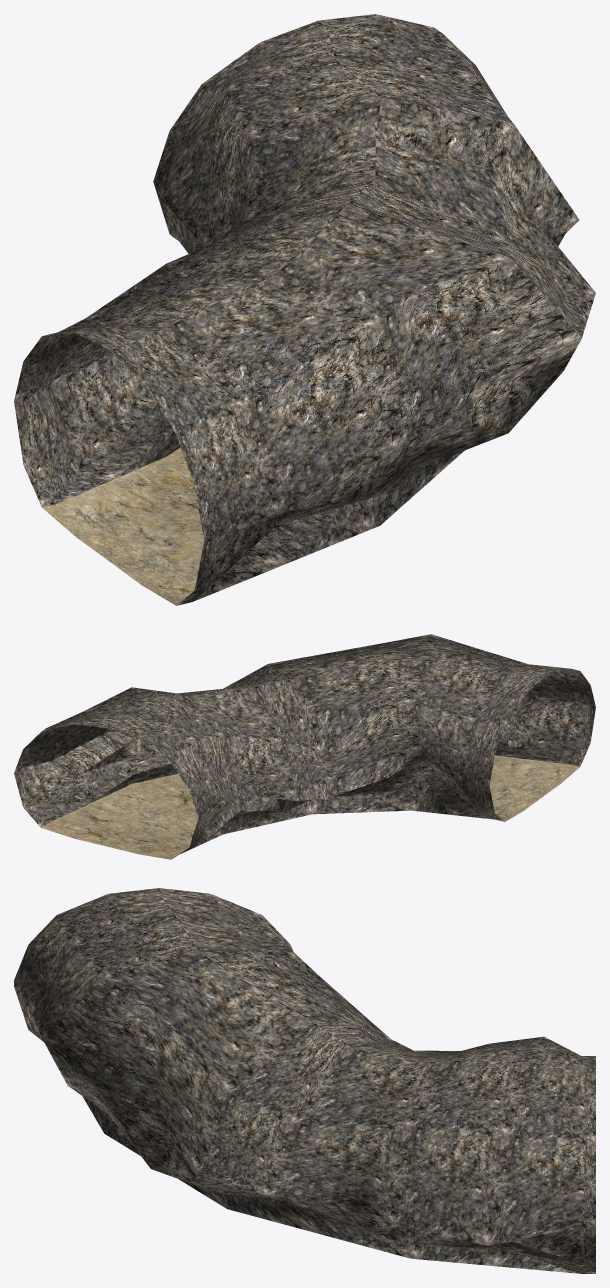
Rendered from pir_m_are_cav_curveWide.fbx.
3 renders of one model, top to bottom at view 1: azimuth 30°, elevation 25°; view 2: azimuth 150°, elevation 25°; view 3: azimuth 270°, elevation 25°, orthographic. The views are drawn at different scales.
Visible parts, largest first — view 1: curveWide_wall, curveWide_floor; view 2: curveWide_wall, curveWide_floor; view 3: curveWide_wall.
Part boxes in pixels (box(x1,y1,x2,y2)): curveWide_wall: box(14, 14, 595, 605); curveWide_floor: box(42, 447, 204, 605); curveWide_wall: box(14, 634, 595, 857); curveWide_floor: box(41, 755, 579, 859); curveWide_wall: box(14, 888, 595, 1273).
Size of the model in its own units: 20000 by 6388 by 20000.
2 materials, 2 textured.
